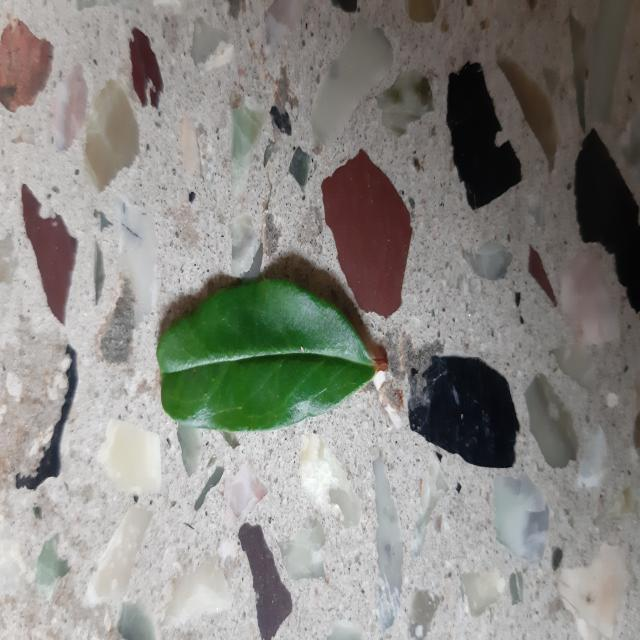leaf: (155, 276, 377, 432), (319, 147, 413, 318)
